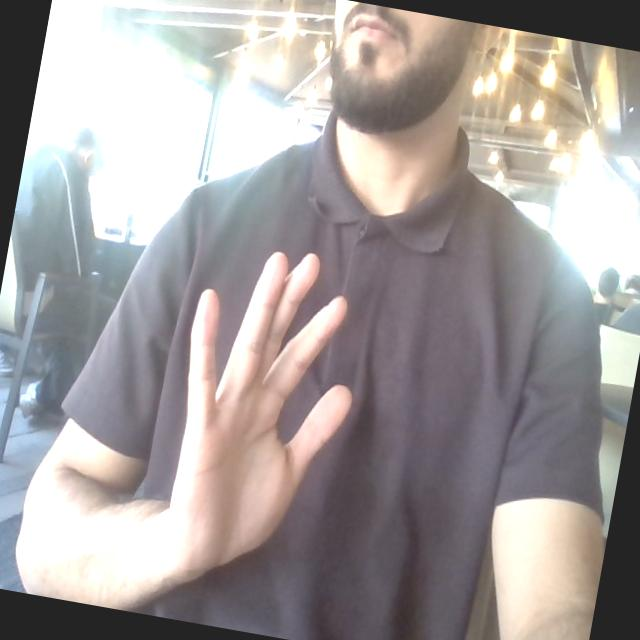Hand: (165, 254, 351, 573)
